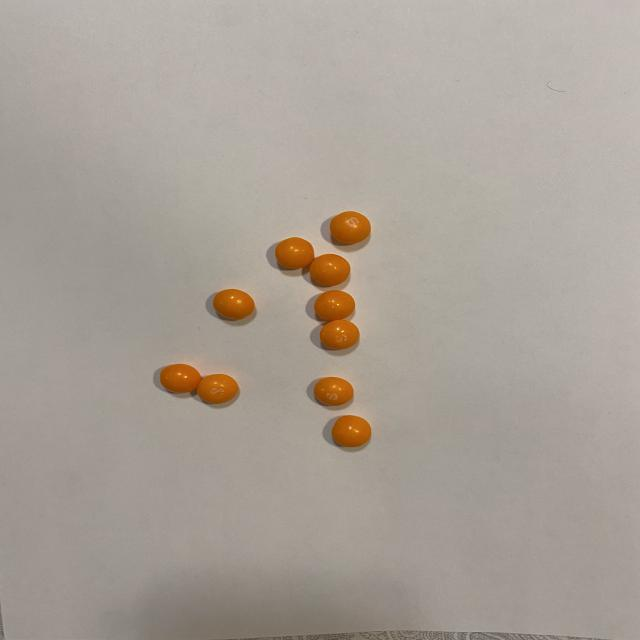smartie: (330, 211, 371, 244), (309, 254, 350, 286), (212, 289, 254, 320), (314, 290, 355, 321), (196, 374, 238, 404), (332, 416, 371, 448), (274, 237, 314, 268), (159, 364, 201, 393), (319, 320, 359, 350), (313, 377, 353, 406)
